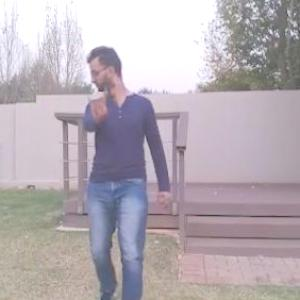takeoff-hand: (82, 77, 115, 125)
